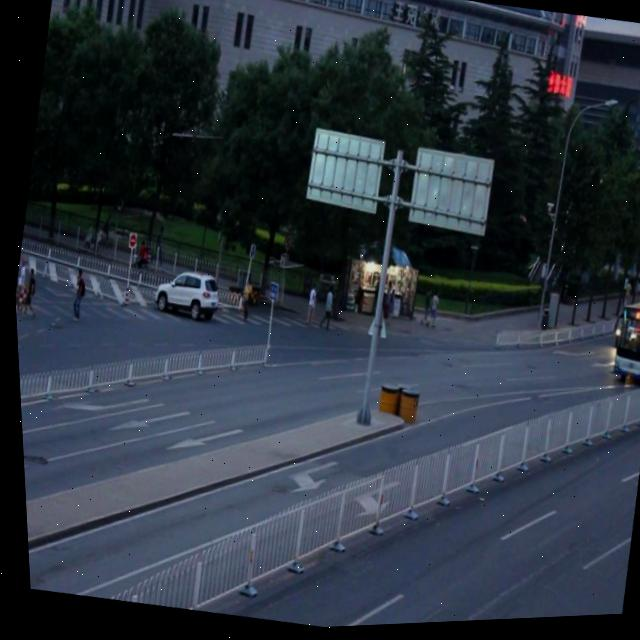car: (148, 263, 220, 325)
van: (603, 299, 640, 395)
